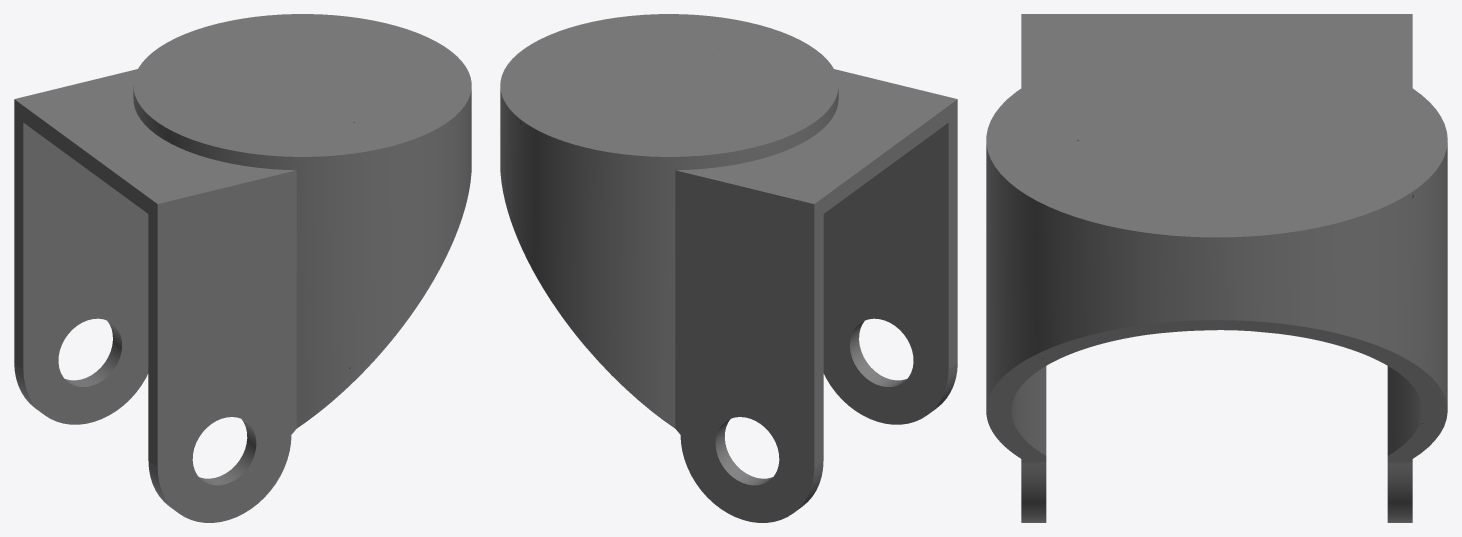
Rendered from caster_rotate.dae.
The picture shows the model from 3 angles, left to right: view 1: azimuth 30°, elevation 25°; view 2: azimuth 150°, elevation 25°; view 3: azimuth 270°, elevation 25°; orthographic projection. The views are drawn at different scales.
Visible parts, largest first — view 1: caster_rotate; view 2: caster_rotate; view 3: caster_rotate.
Boxes of the visible parts, x1,y1,x2,y2 form: caster_rotate: (14,14,471,522); caster_rotate: (500,14,957,522); caster_rotate: (986,14,1447,522).
Size of the model in its own units: 0.057 by 0.046 by 0.052.
1 material, 1 textured.
